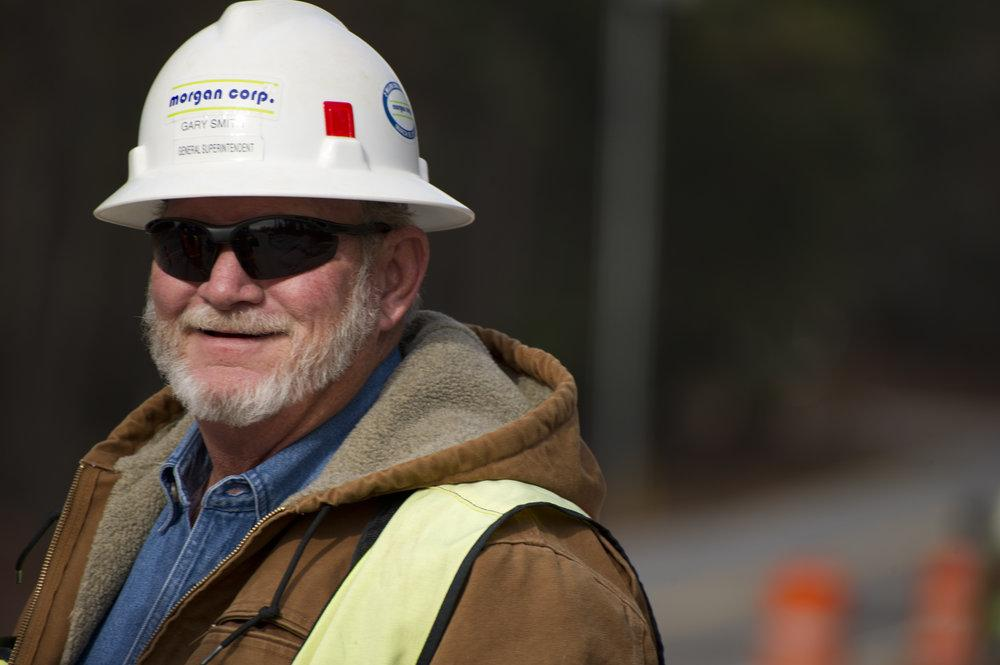helmet: (86, 1, 474, 234)
